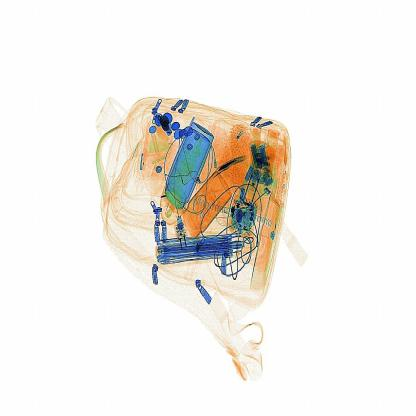wrench: (208, 151, 251, 176)
